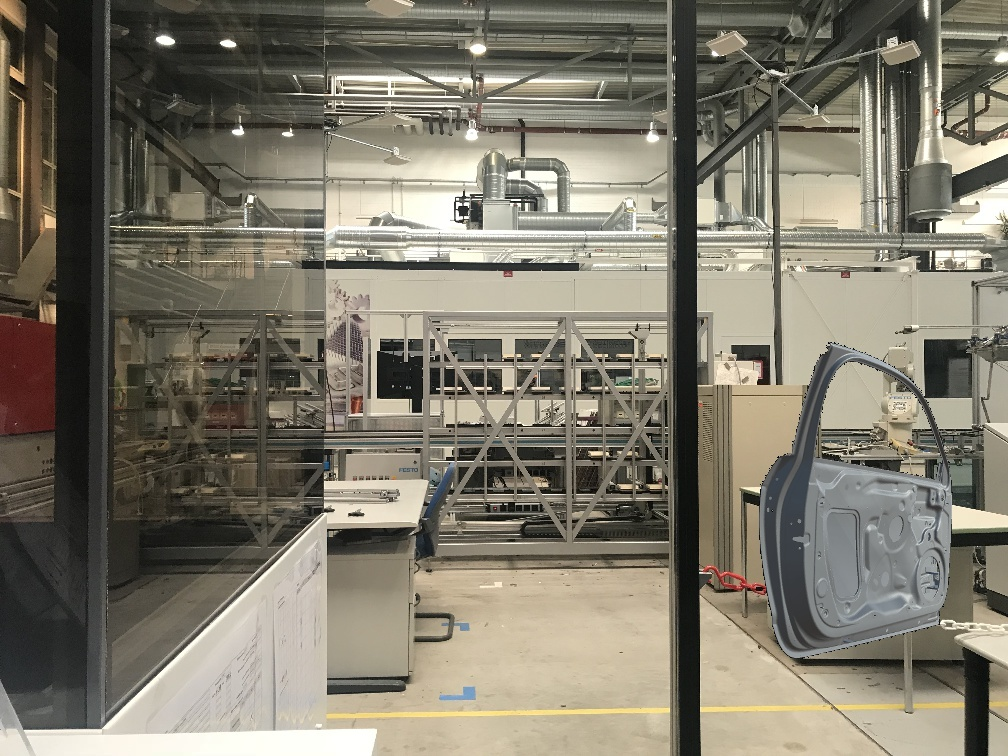car_door: (759, 342, 952, 658)
